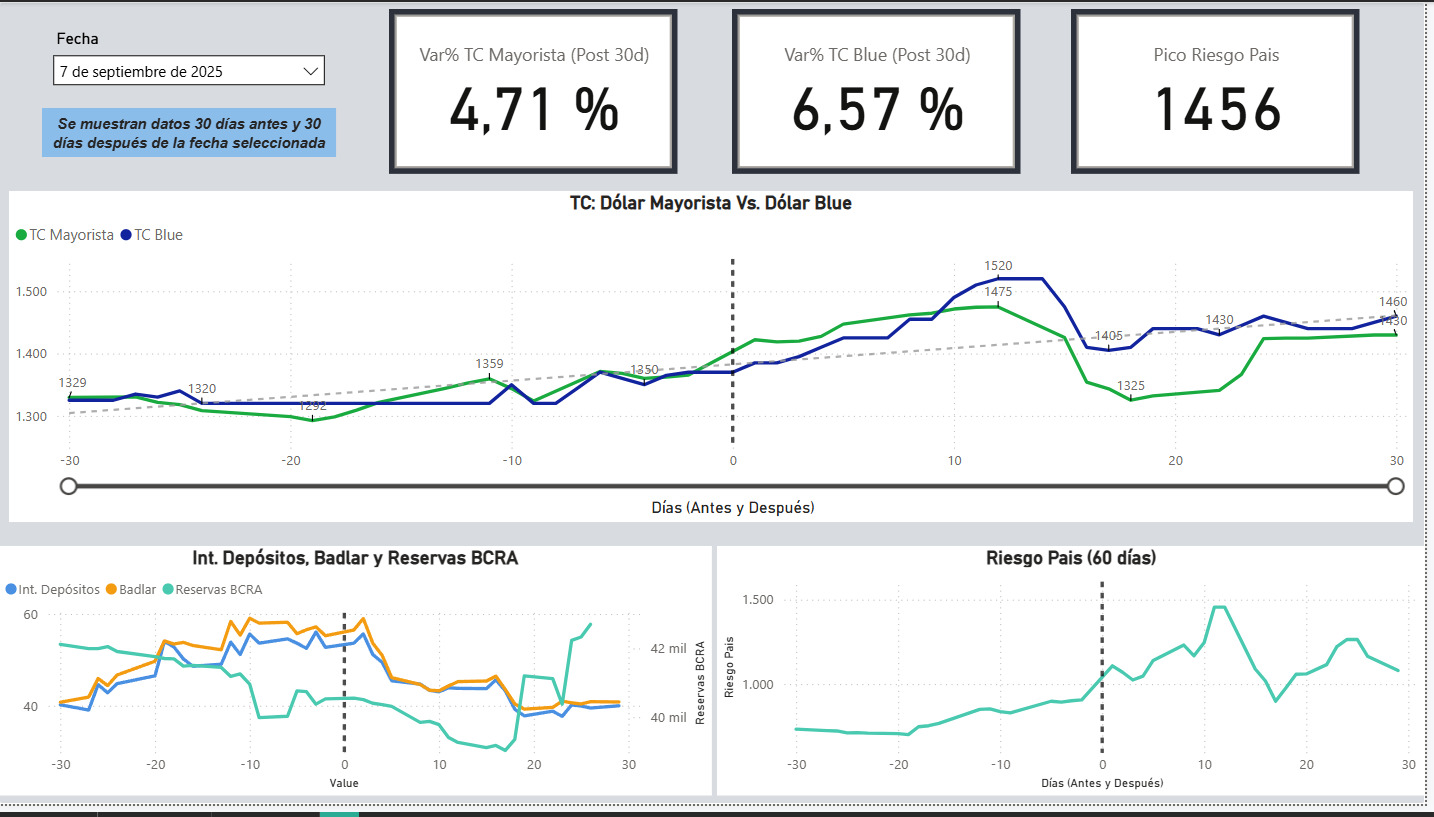

Layout of this report page (visuals, bound fields, positions):
{"tool":"powerbi","page":{"name":"TC elecciones","canvas":[1280,720],"ordinal":0},"visuals":[{"type":"cardVisual","fields":{"Data":["Medidas Dax.Var% TC Mayorista (Post 30d)"]},"box":[350.1,6.3,259.5,148.1],"z":0},{"type":"lineChart","title":"TC: Dólar Mayorista Vs. Dólar Blue","fields":{"Category":["Dias Relativos.Value"],"Y":["Medidas Dax.TC Mayorista por Dia Relativo","Medidas Dax.TC Blue por Dia Relativo"]},"box":[9,169.7,1260.4,297.2],"z":1000},{"type":"lineChart","title":"Int. Depósitos, Badlar y Reservas BCRA","fields":{"Category":["Dias Relativos.Value"],"Y2":["Medidas Dax.Reservas por Dia Relativo"],"Y":["Medidas Dax.int depositos por Dia Relativo","Medidas Dax.Badlar Dia Relativo"]},"box":[0,488.4,640.1,223.5],"z":2000},{"type":"slicer","fields":{"Values":["Elecciones.Fecha"]},"box":[38.6,19.8,263.9,80.8],"z":3000},{"type":"lineChart","title":"Riesgo Pais (60 días)","fields":{"Category":["Dias Relativos.Value"],"Y":["Medidas Dax.Riesgo Pais por Dia Relativo"]},"box":[644.6,488.4,635.6,223.5],"z":4000},{"type":"cardVisual","fields":{"Data":["Medidas Dax.Var% TC Blue (Post 30d)"]},"box":[658.1,6.3,259.5,148.1],"z":5000},{"type":"cardVisual","title":"Pico Riesgo País","fields":{"Data":["Medidas Dax.Pico Riesgo Pais (Post 30d)"]},"box":[962.4,6.3,259.5,148.1],"z":6000},{"type":"textbox","box":[38.6,95.2,263.9,44],"z":8000}]}

Visuals, with their boxes in screenshot pixels (x1, y1, x2, y2), scaled from the page's 1280x720 canvas onto the 1434x817 screenshot:
cardVisual - Medidas Dax.Var% TC Mayorista (Post 30d): (392,7,683,175)
"TC: Dólar Mayorista Vs. Dólar Blue" lineChart: (10,193,1422,530)
"Int. Depósitos, Badlar y Reservas BCRA" lineChart: (0,554,717,808)
slicer - Elecciones.Fecha: (43,22,339,114)
"Riesgo Pais (60 días)" lineChart: (722,554,1433,808)
cardVisual - Medidas Dax.Var% TC Blue (Post 30d): (737,7,1028,175)
"Pico Riesgo País" cardVisual: (1078,7,1369,175)
textbox: (43,108,339,158)
